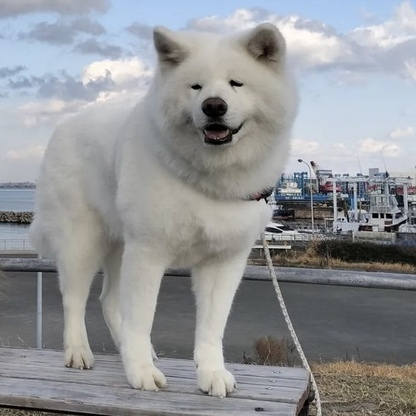akita: (22, 16, 304, 402)
